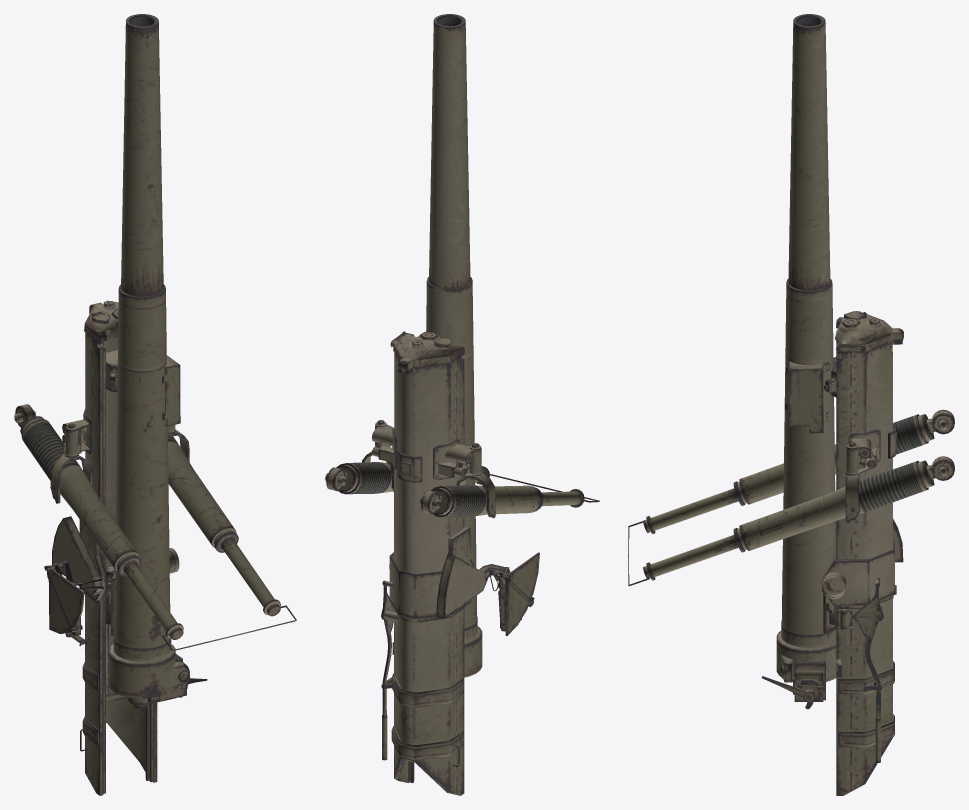
The model's file is Gun_02.glb.
3 renders of one model, left to right at view 1: azimuth 30°, elevation 25°; view 2: azimuth 150°, elevation 25°; view 3: azimuth 270°, elevation 25°, orthographic. The views are drawn at different scales.
Visible parts, largest first — view 1: set_0_group_0, set_0_group_1; view 2: set_0_group_0, set_0_group_1; view 3: set_0_group_0, set_0_group_1.
Boxes of the visible parts, x1,y1,x2,y2 form: set_0_group_0: [44, 14, 207, 795]; set_0_group_1: [14, 404, 296, 651]; set_0_group_0: [362, 14, 539, 795]; set_0_group_1: [325, 462, 599, 517]; set_0_group_0: [761, 14, 903, 795]; set_0_group_1: [628, 409, 954, 586].
Size of the model in its own units: 0.9661 by 4.92 by 1.91.
Materials: 2 (2 with a texture image).
